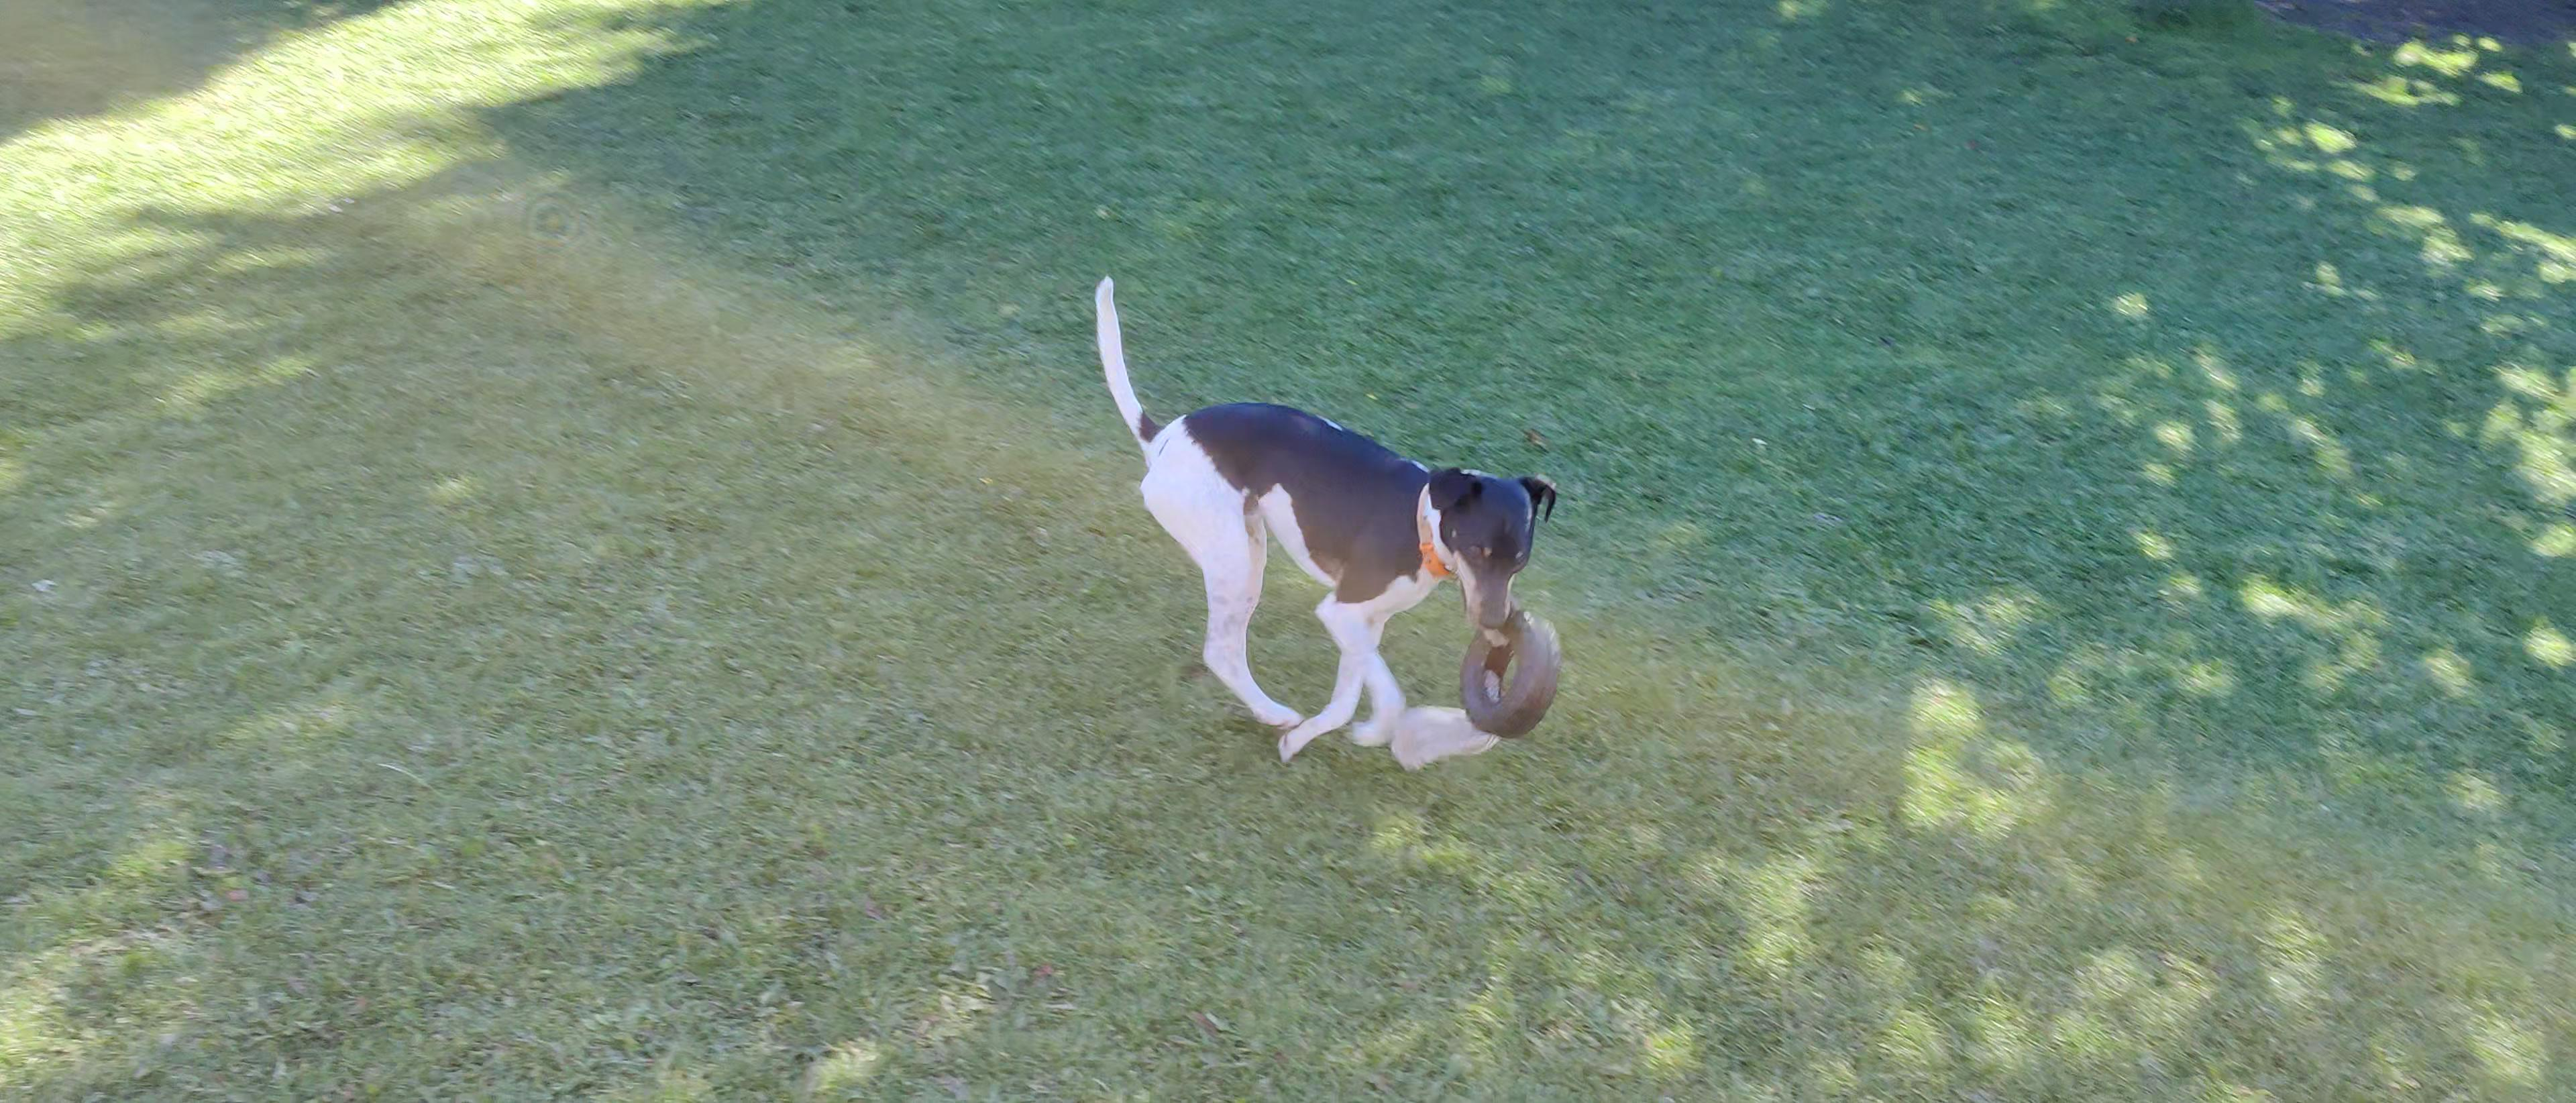Dog: (1076, 250, 1566, 784)
